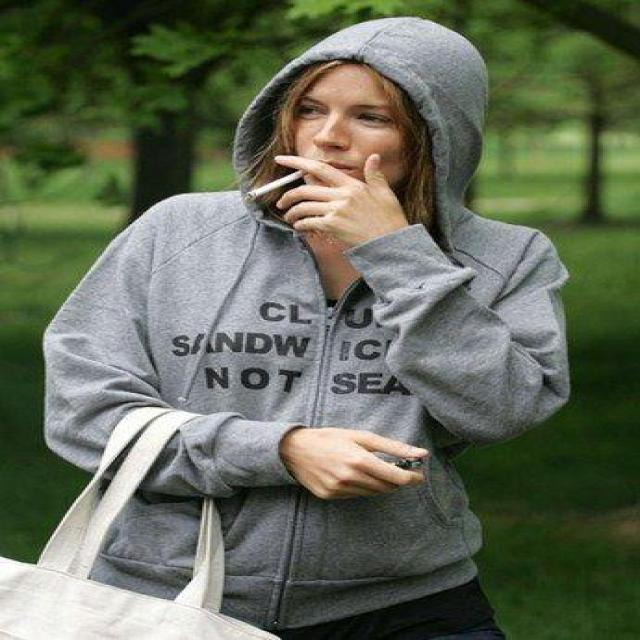cigarette: (224, 161, 321, 214)
